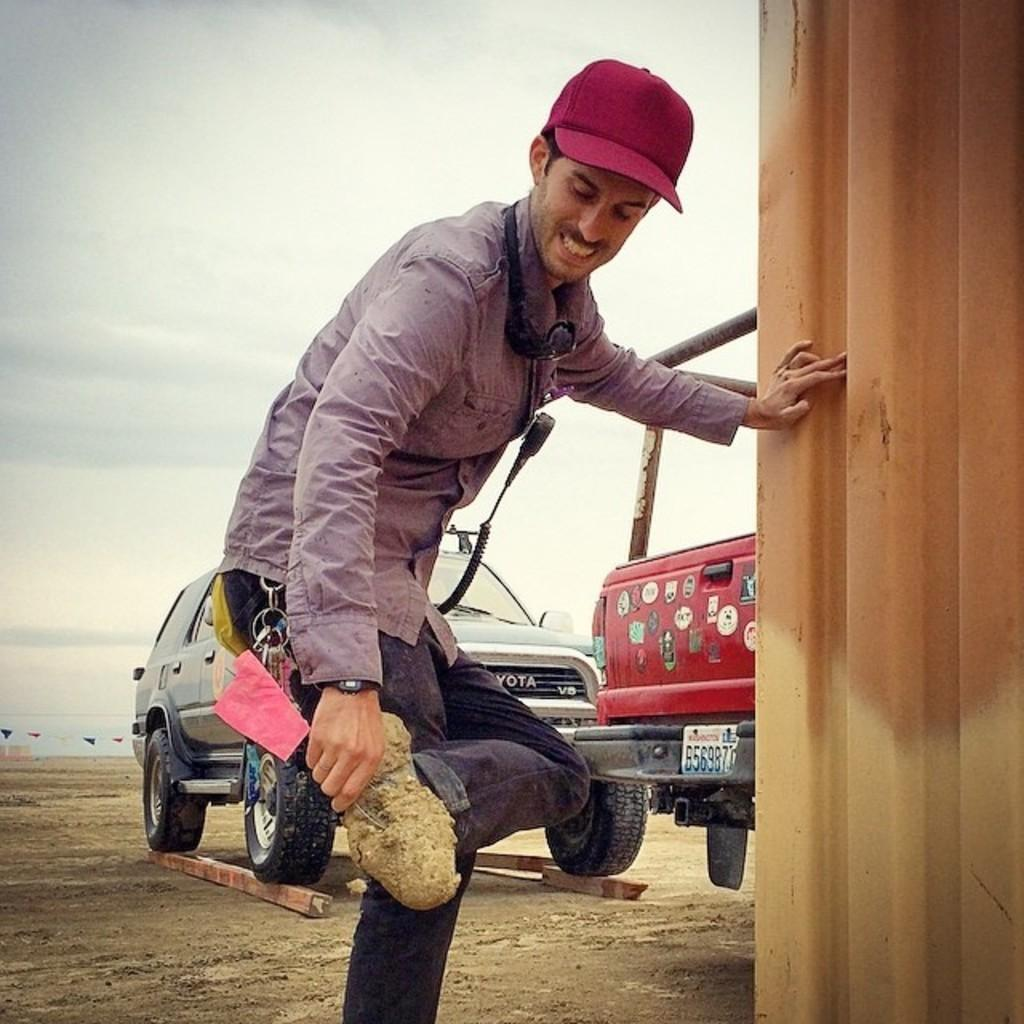Hat: (542, 52, 699, 214)
